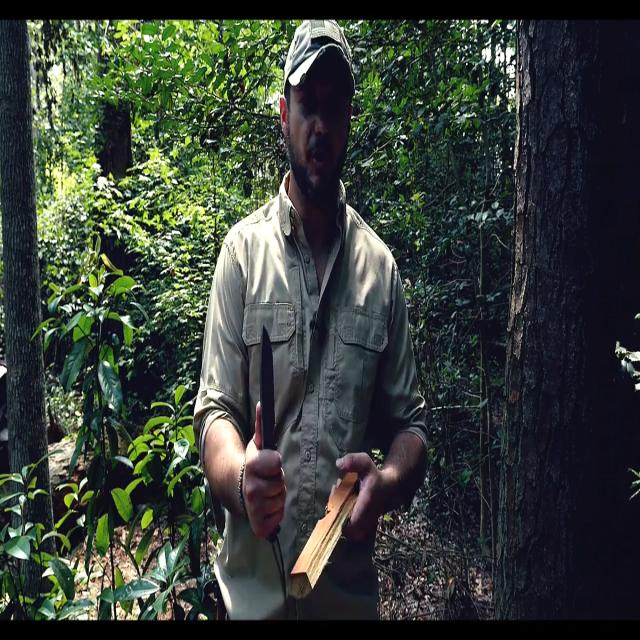knife: (259, 325, 283, 456)
